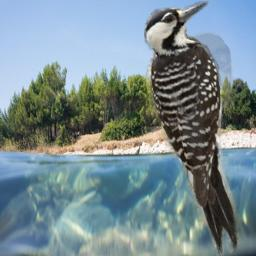Woodpecker: (144, 1, 242, 256)
